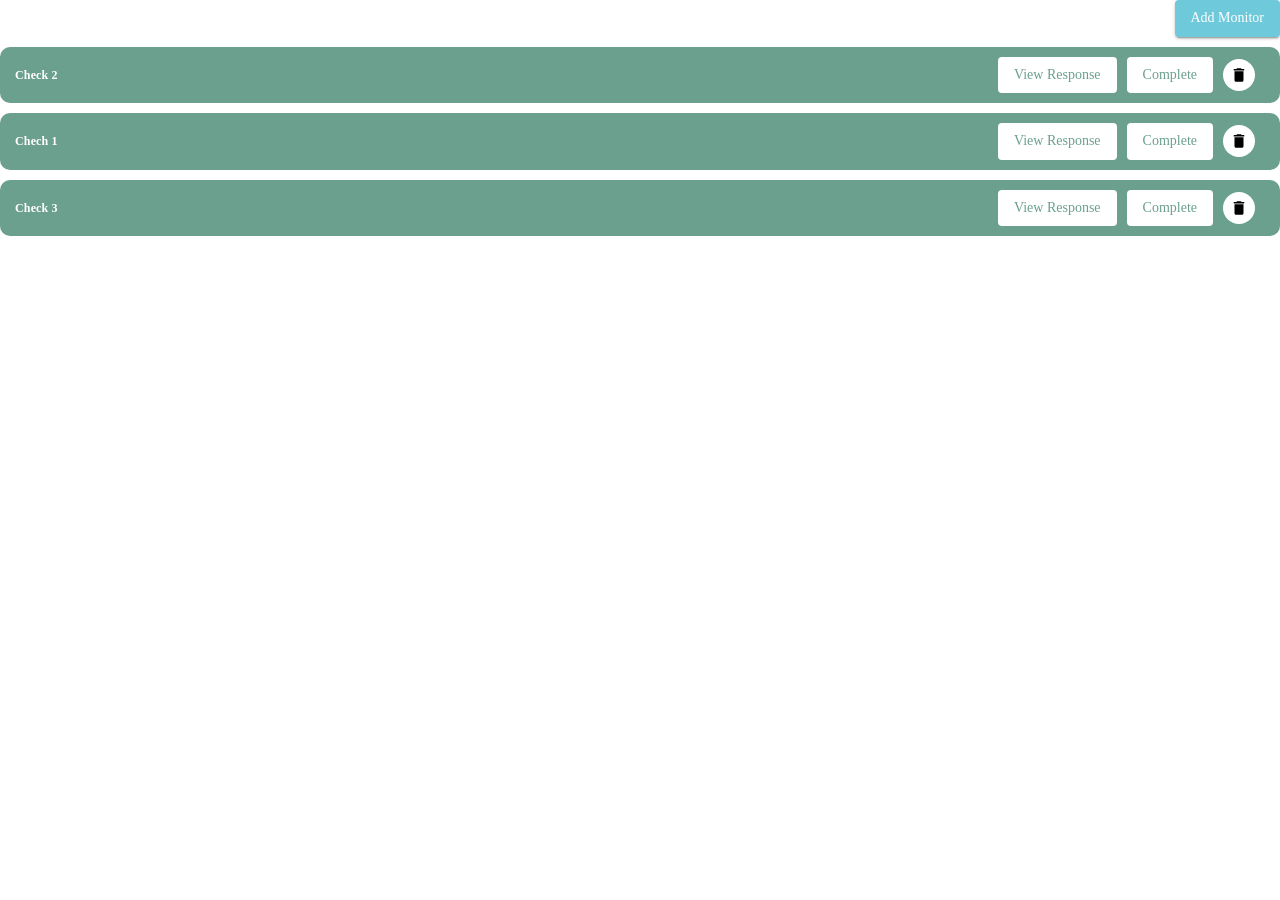
Therapist monitor response submit › should delete monitor
What coordinates should you click on to do the following:
click the button with test id "button-delete-icon_list-item-1"
I would click on:
 (1239, 75)
Its box is [1223,59,1255,91].
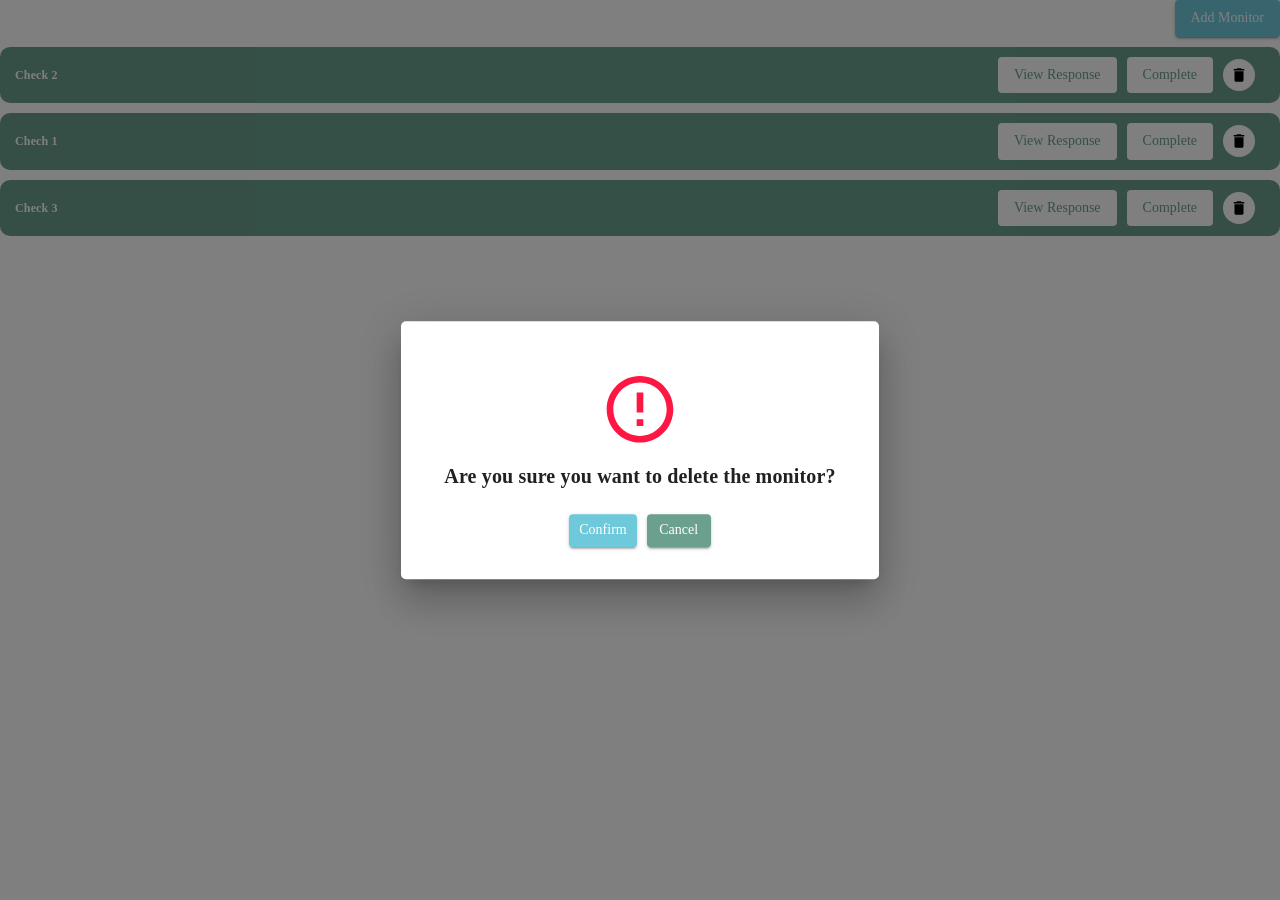
Result: the heading "Are you sure you want to delete the monitor?" is shown at [433,459,847,494]
What coordinates should you click on to do the following:
click the button with test id "confirmButton"
I would click on:
 (603, 531)
Its box is [569,514,637,547].
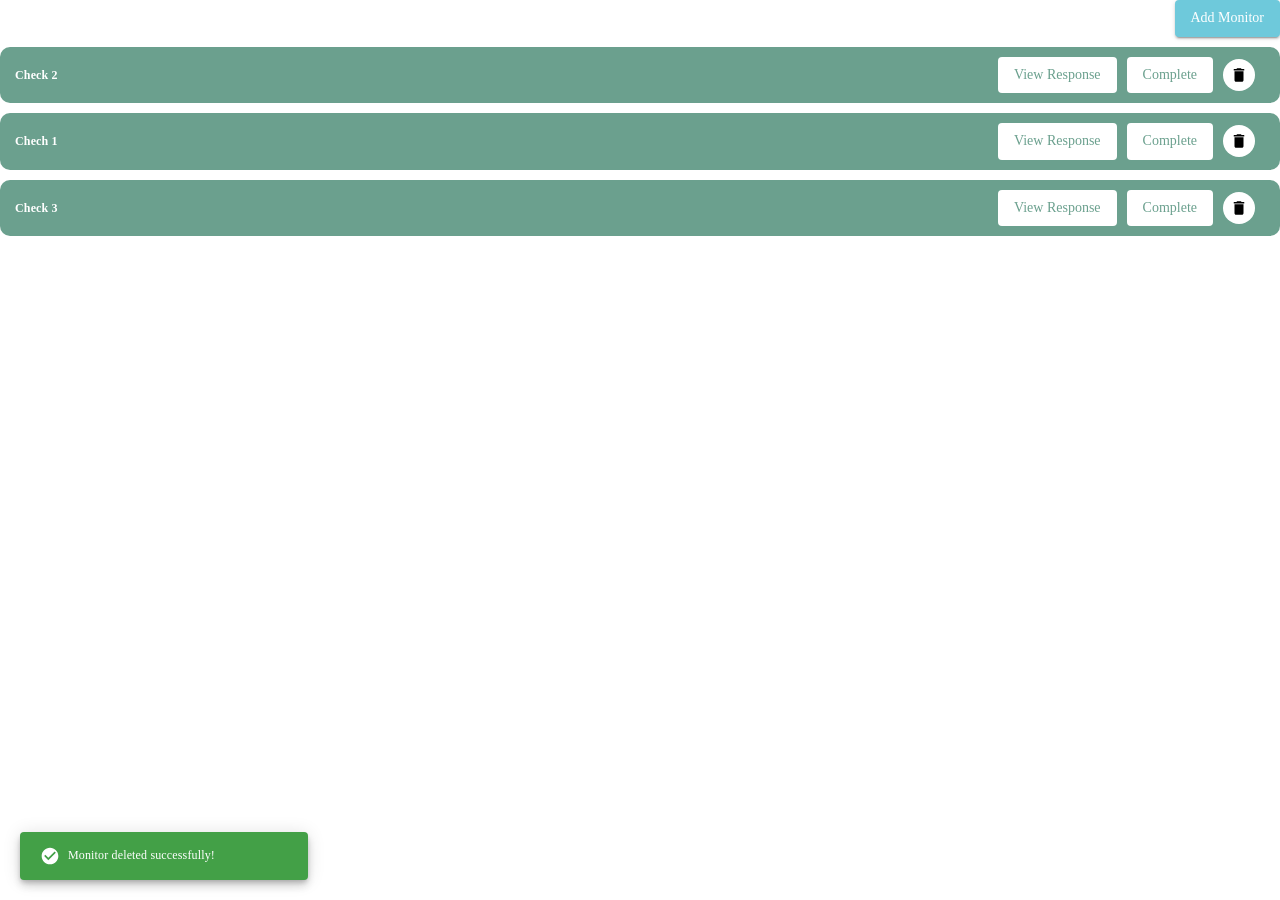
Result: the text "Monitor deleted successfully!" is shown at [40,846,215,866]
